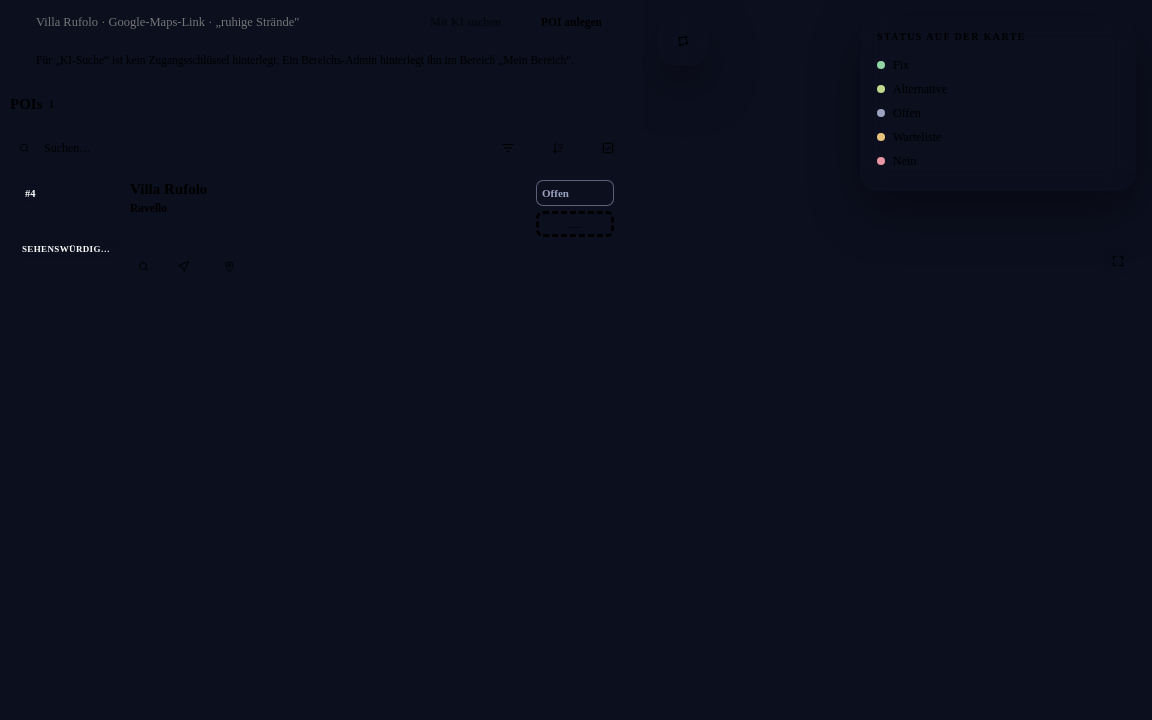
Test: PoisView — Position per Kartenklick (req-044, löst bug-015 ab) › lässt die Position beim Kartenklick unverändert, solange er aus ist
Step 1. Click the button "Villa Rufolo Ravello" → (169, 189), box [130,180,526,248]
(page scrolled)
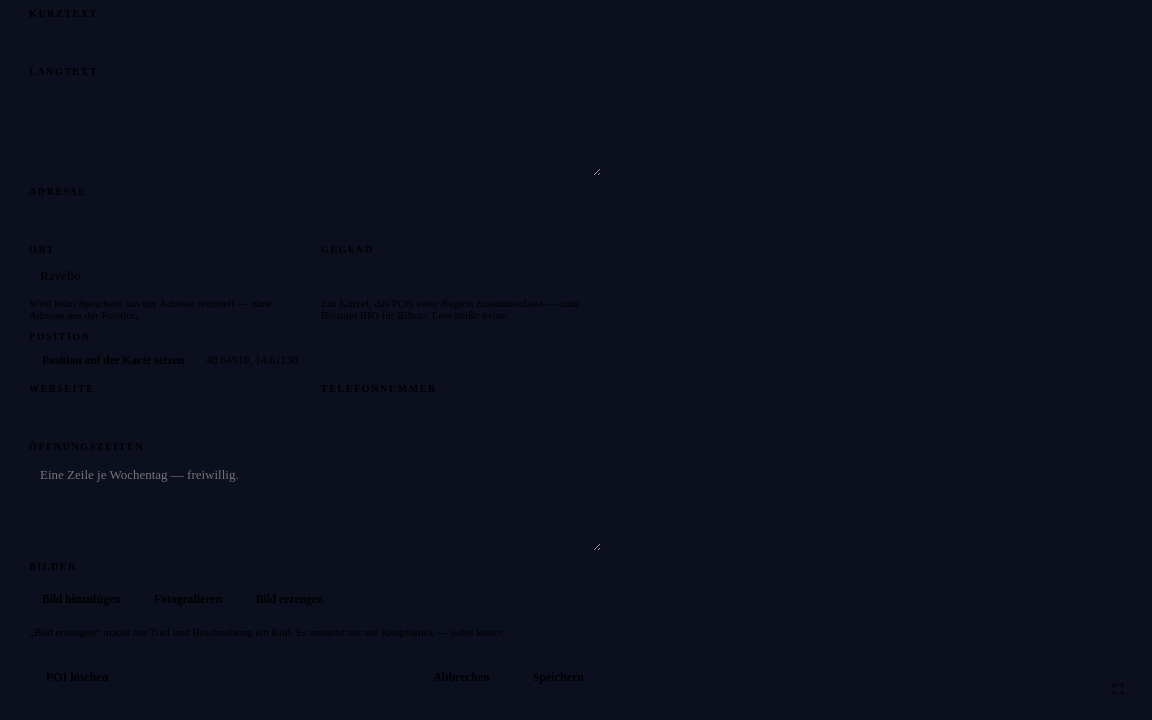
Check: the text with test id "poi-form-position" reads "40.64910, 14.61130", box [206,354,298,366]
